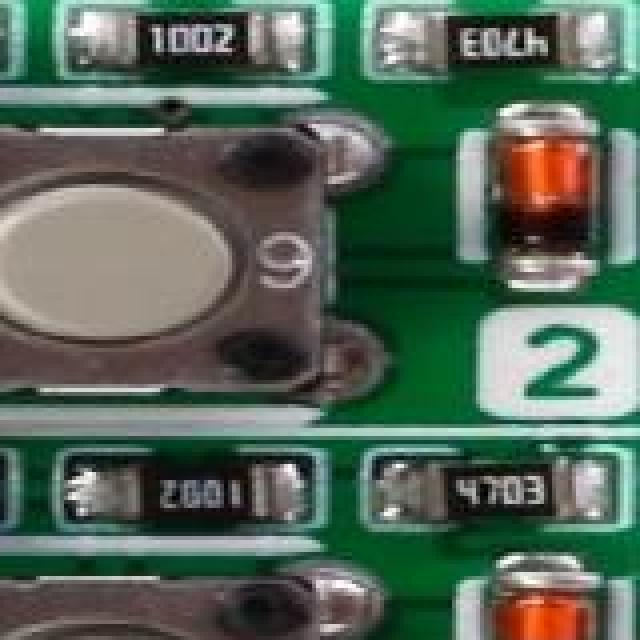diode: (488, 108, 610, 264), (484, 572, 608, 640)
resistor: (424, 16, 600, 74), (100, 464, 290, 516), (428, 472, 584, 524), (120, 20, 266, 64)
switch: (0, 124, 332, 404), (0, 580, 336, 640)
